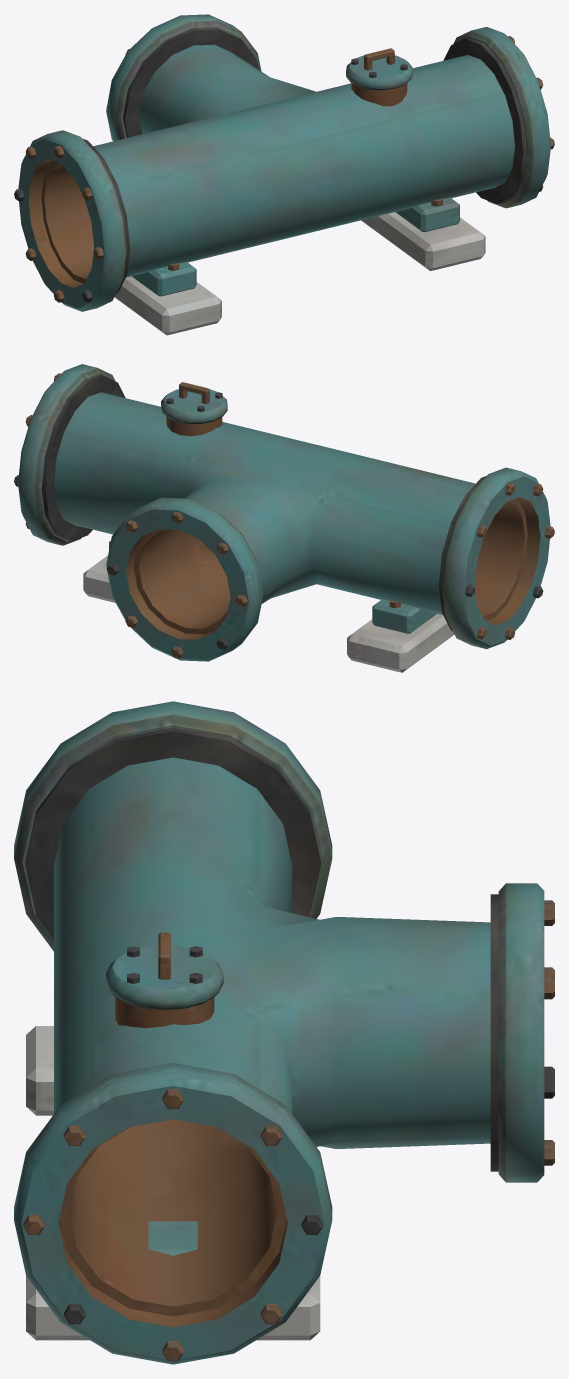
Rendered from Y19_sewer_pipe_junction_v1.glb.
3 renders of one model, top to bottom at view 1: azimuth 30°, elevation 25°; view 2: azimuth 150°, elevation 25°; view 3: azimuth 270°, elevation 25°, orthographic. The views are drawn at different scales.
Parts seen in each view (by area): view 1: Three way cast sewer fitting; view 2: Three way cast sewer fitting; view 3: Three way cast sewer fitting.
Part boxes in pixels (x1,y1,x2,y2): Three way cast sewer fitting: (14, 14, 554, 335); Three way cast sewer fitting: (14, 364, 554, 672); Three way cast sewer fitting: (14, 701, 554, 1364).
Bounding box in the file's own units: 2 × 0.8178 × 1.17.
5 materials, 5 textured.
